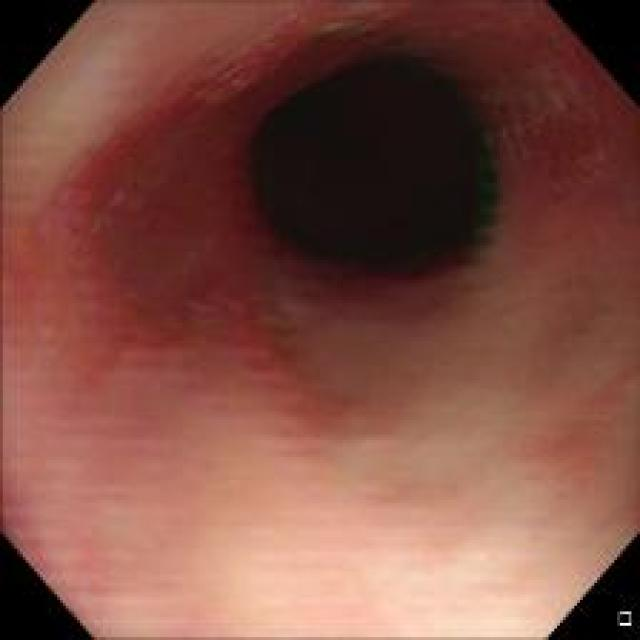color misalignment: (469, 141, 511, 259)
contrast: (236, 40, 514, 296)
